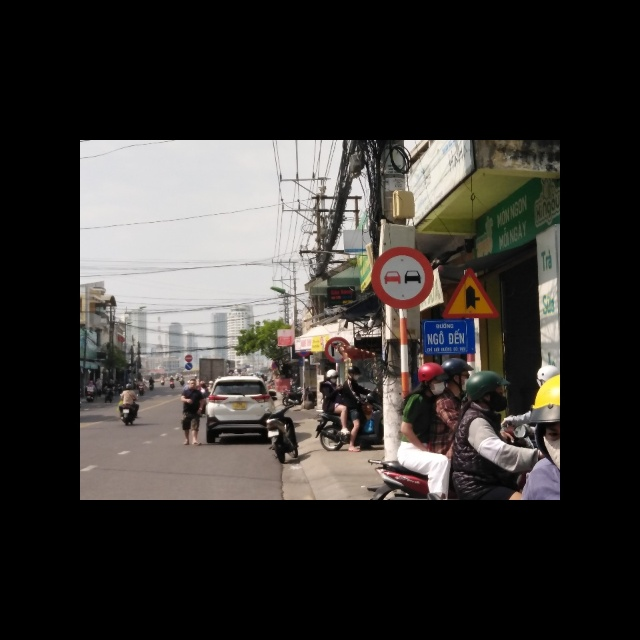Cấm vượt: (373, 245, 435, 309)
Giao nhau với đường không ưu tiên: (442, 267, 500, 319)
